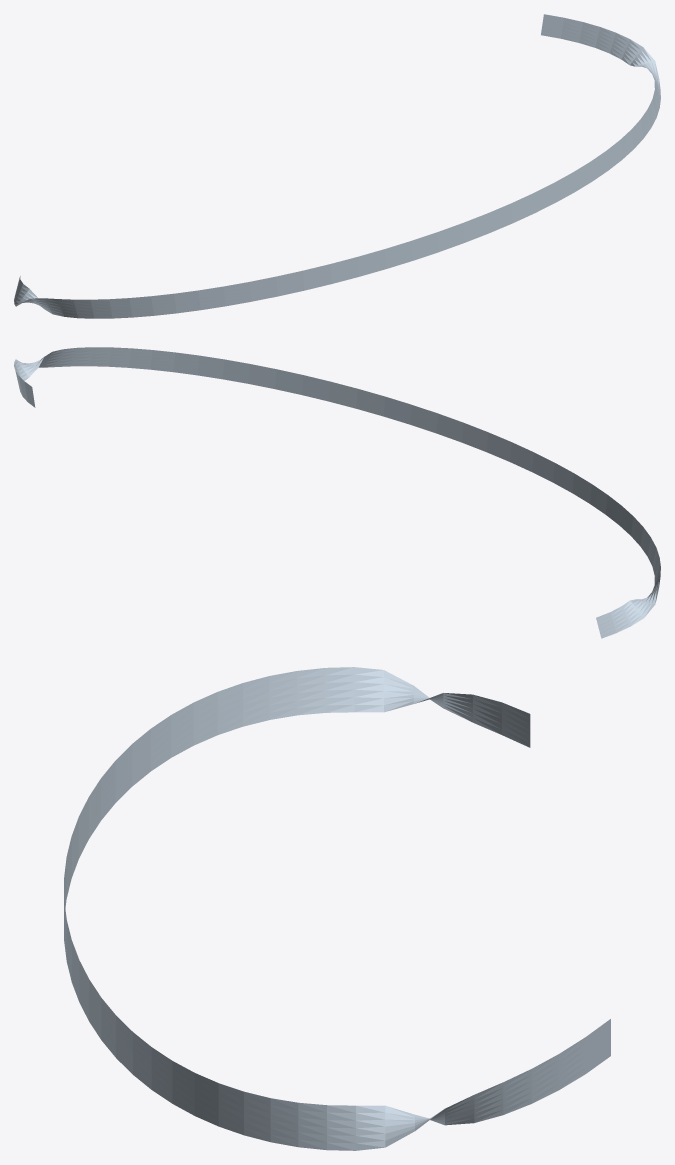
The model's file is 2084_WateryRebirth_Overall_OwnRebirthFlow_4.fbx.
3 views of the same model, one above another, from view 1: azimuth 30°, elevation 25°; view 2: azimuth 150°, elevation 25°; view 3: azimuth 270°, elevation 25° (orthographic). The views are drawn at different scales.
Parts seen in each view (by area): view 1: PART_Hydro_OwnRebirthFlow_4; view 2: PART_Hydro_OwnRebirthFlow_4; view 3: PART_Hydro_OwnRebirthFlow_4.
Boxes of the visible parts, left/top/right/bottom form: PART_Hydro_OwnRebirthFlow_4: left=14, top=14, right=660, bottom=318; PART_Hydro_OwnRebirthFlow_4: left=14, top=347, right=660, bottom=638; PART_Hydro_OwnRebirthFlow_4: left=64, top=667, right=610, bottom=1150.
Bounding box in the file's own units: 227 × 45.22 × 84.49.
